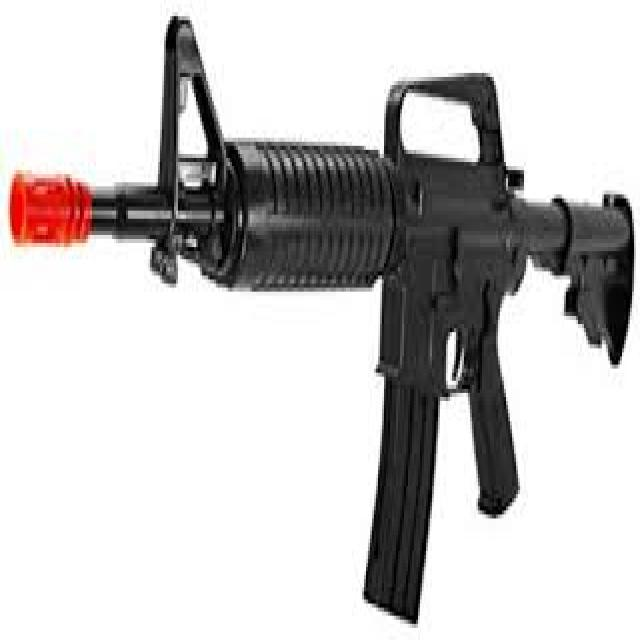rifle: (1, 1, 640, 640)
